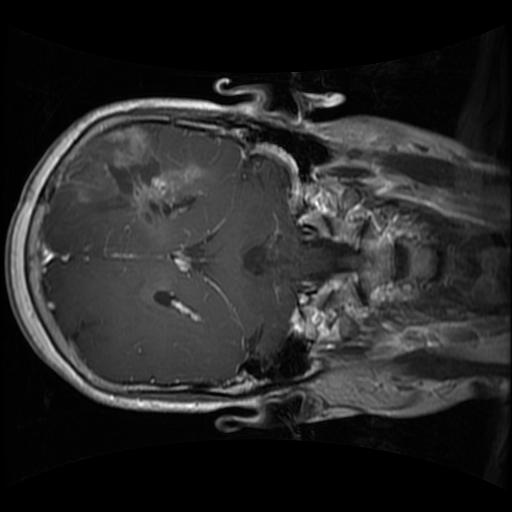glioma: (60, 126, 210, 240)
